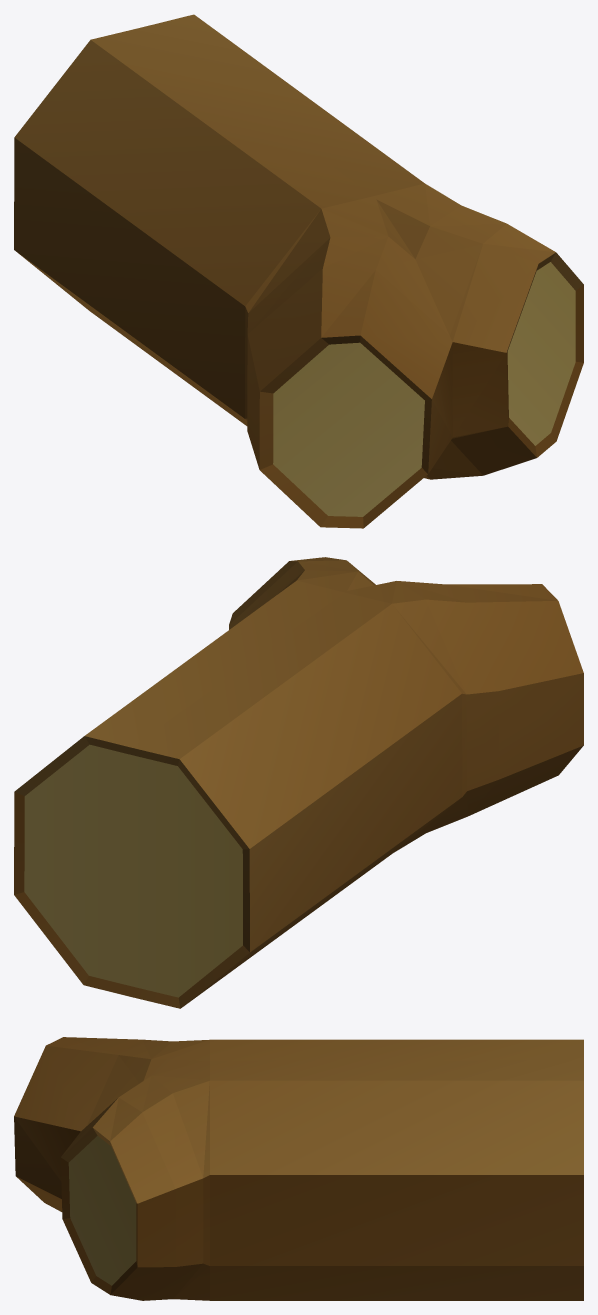
The model's file is TreeChunk_02.FBX.
3 views of the same model, one above another, from view 1: azimuth 30°, elevation 25°; view 2: azimuth 150°, elevation 25°; view 3: azimuth 270°, elevation 25° (orthographic). The views are drawn at different scales.
Parts seen in each view (by area): view 1: Tree chunk 2; view 2: Tree chunk 2; view 3: Tree chunk 2.
Boxes of the visible parts, x1,y1,x2,y2 form: Tree chunk 2: (14, 14, 583, 528); Tree chunk 2: (14, 557, 583, 1008); Tree chunk 2: (14, 1037, 583, 1300).
Bounding box in the file's own units: 88.18 × 64.72 × 152.
